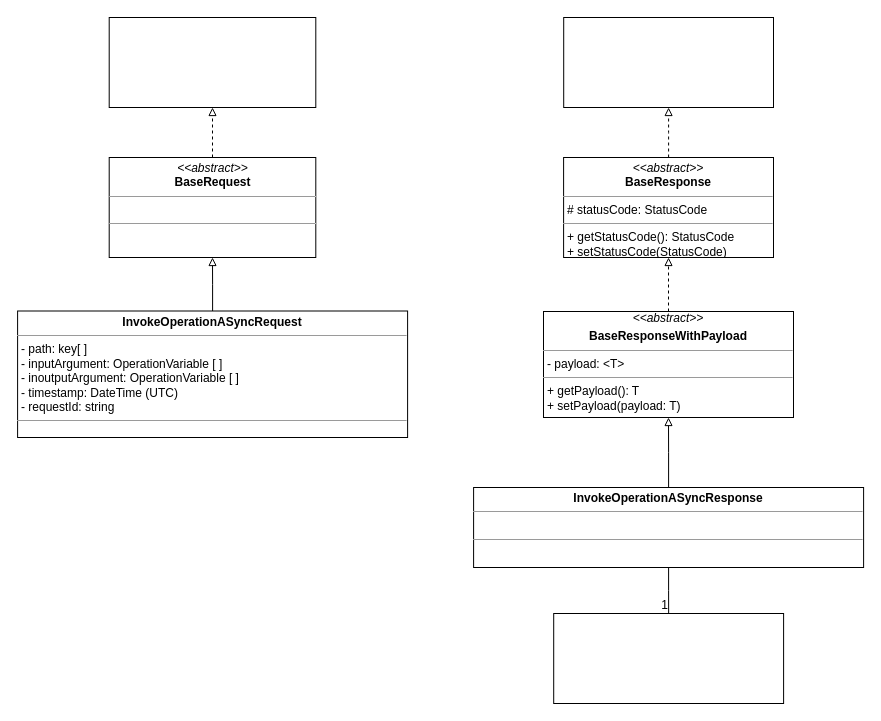
Some shapes in this 881 by 721 pixel diagram are drawn without their labels. The shapes that lost their labels are listed below. From the top down, each one's centre as x and y in pixels, then its label:
At point (212, 62): "<<Interface>> Request".
At point (668, 62): "<<Interface>> Response".
At point (668, 658): "OperationHandle # requestId*: string # handleId: string".
